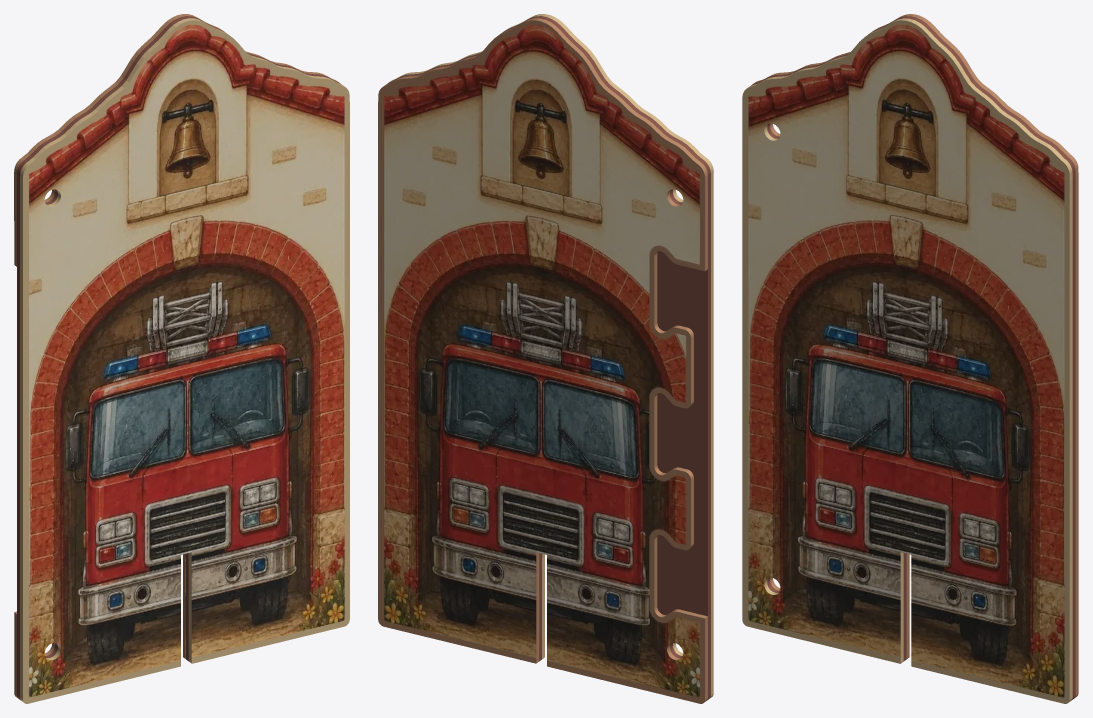
Rendered from panel-d.glb.
3 views of the same model, side by side, from view 1: azimuth 30°, elevation 25°; view 2: azimuth 150°, elevation 25°; view 3: azimuth 330°, elevation 25° (orthographic).
Visible parts, largest first — view 1: panel-d; view 2: panel-d; view 3: panel-d.
Boxes of the visible parts, x1,y1,x2,y2 form: panel-d: (14,14,349,703); panel-d: (378,14,713,703); panel-d: (742,14,1078,703).
Bounding box in the file's own units: 580 × 1091 × 27.
Materials: 5 (2 with a texture image).
